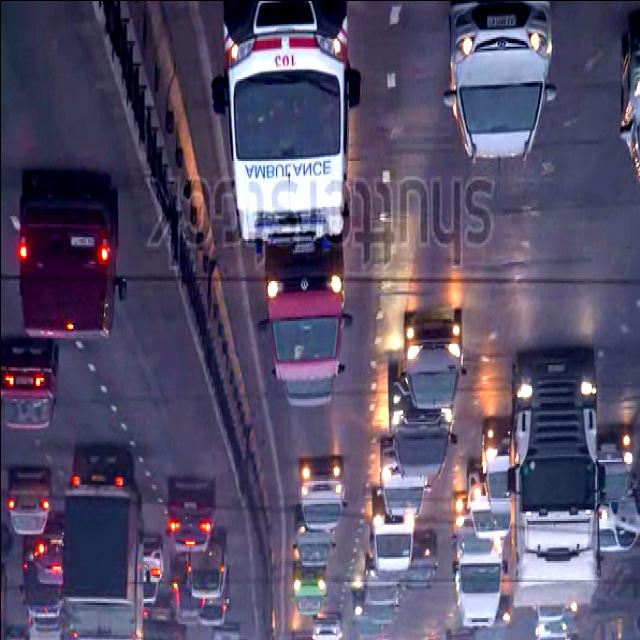ambulance: (206, 0, 364, 254)
